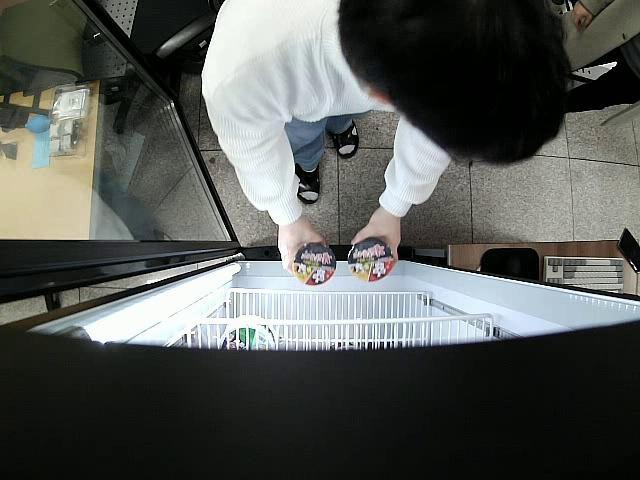08_buldak_S: (347, 238, 396, 282), (295, 243, 336, 284)
